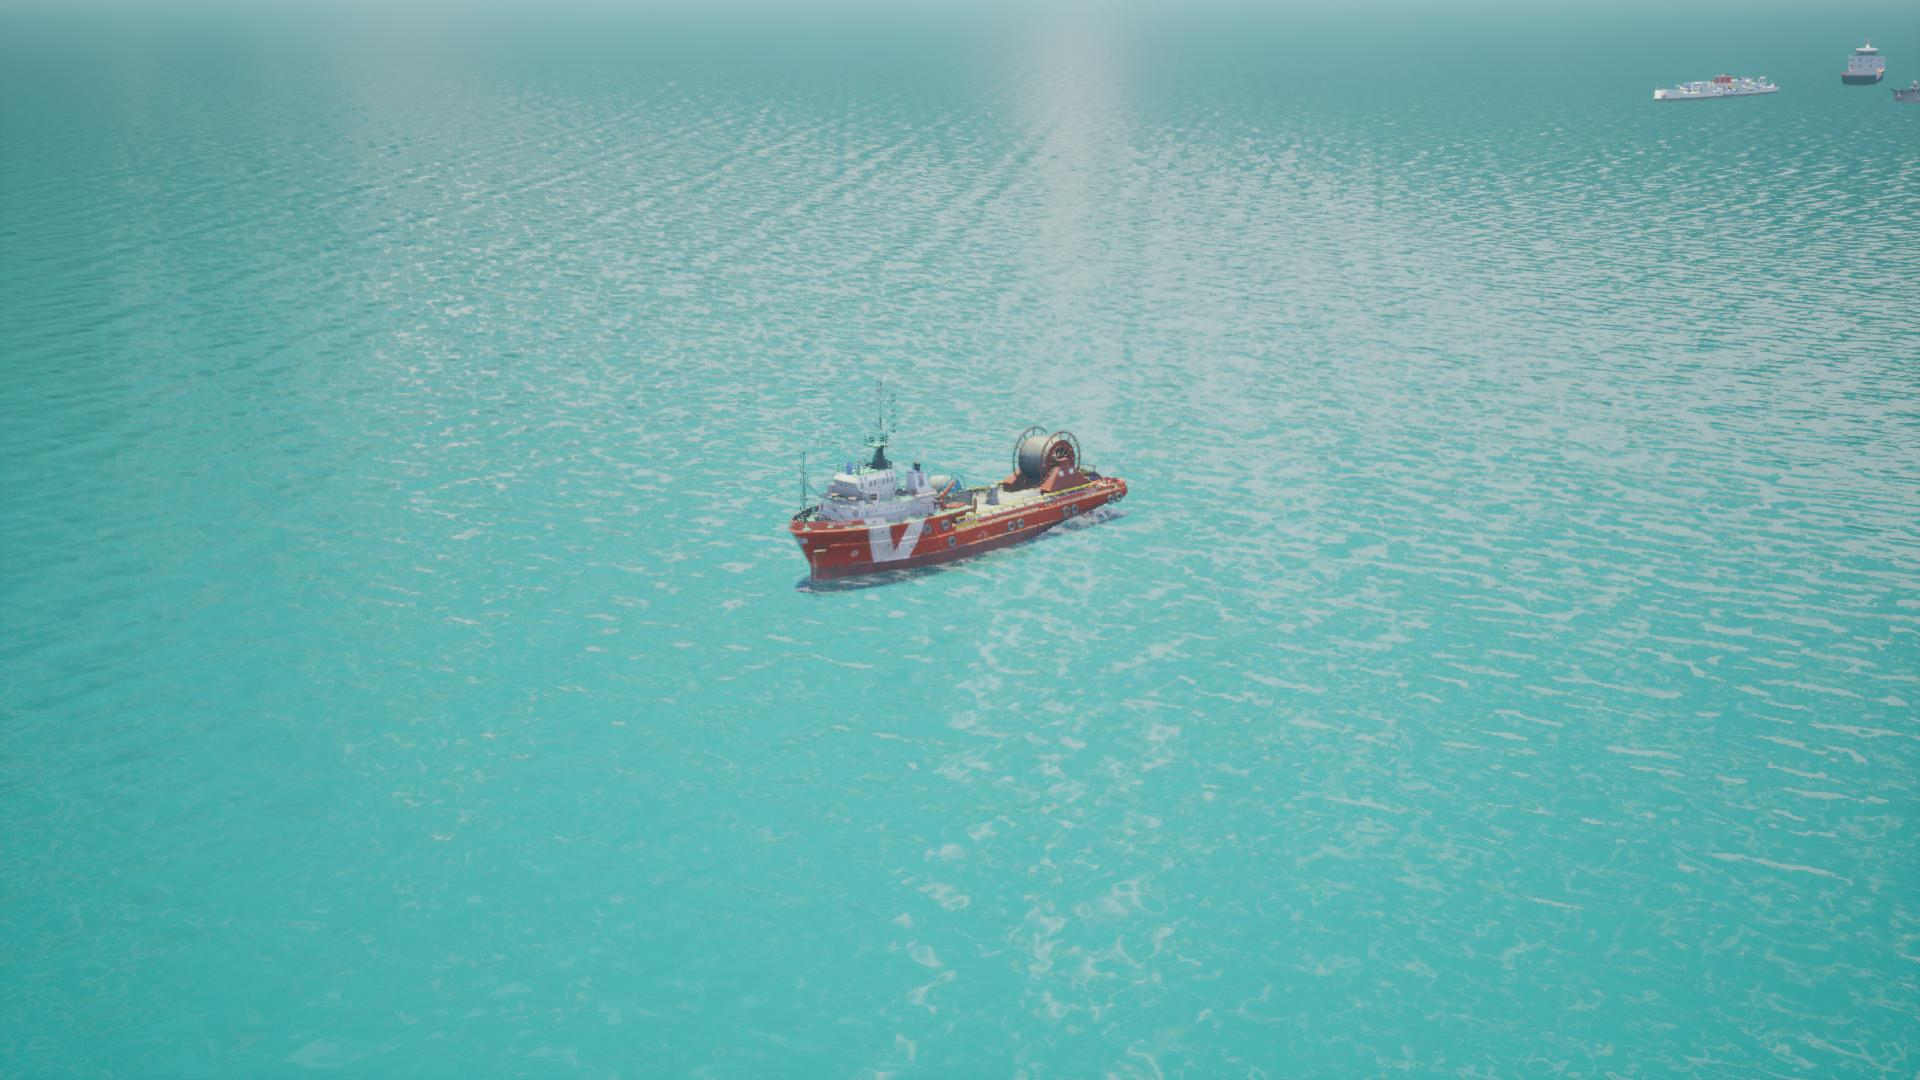Tug Boat: (788, 422, 1128, 591)
